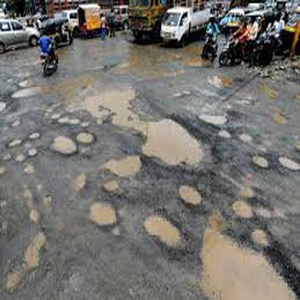pothole: (201, 221, 296, 300), (141, 116, 209, 169), (142, 206, 186, 249), (201, 113, 259, 144), (86, 195, 120, 225), (48, 129, 92, 152), (231, 196, 278, 217), (110, 153, 147, 179), (253, 155, 299, 173), (179, 185, 206, 204)
